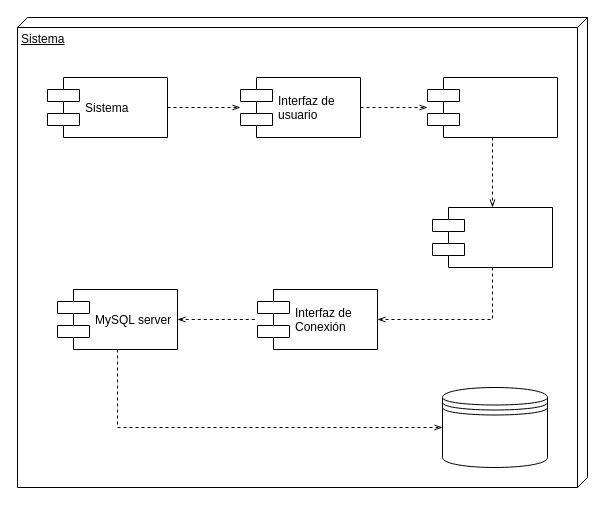
Image size: 605x505. Some labels were removed from this diagram. Each missing label, with the centre of its shape:
"Base de Datos" goes at (495,427).
"Interfaz Control" goes at (492,107).
"Manejador Base de Datos" goes at (492,237).
